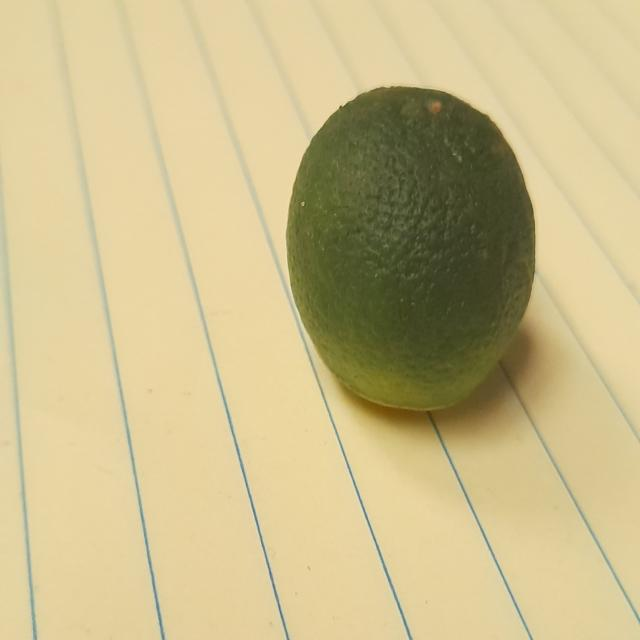heathy: (286, 65, 537, 429)
